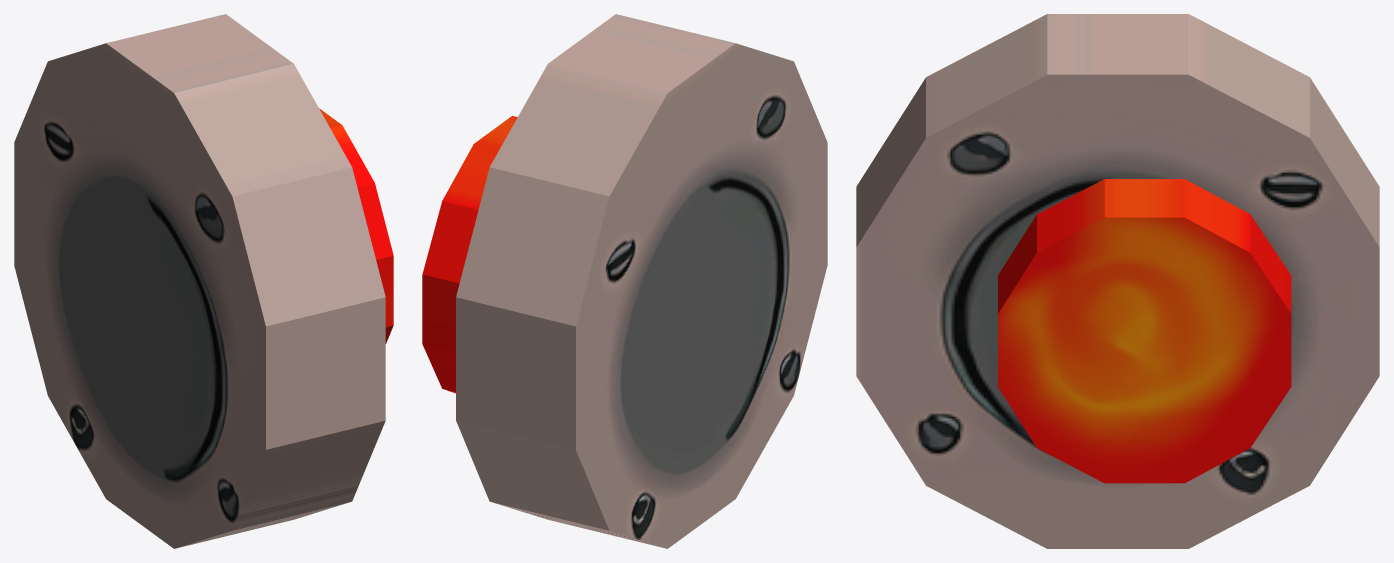
The model's file is Switch.glb.
3 renders of one model, left to right at view 1: azimuth 30°, elevation 25°; view 2: azimuth 150°, elevation 25°; view 3: azimuth 270°, elevation 25°, orthographic. The views are drawn at different scales.
Visible parts, largest first — view 1: Switch; view 2: Switch; view 3: Switch.
Boxes of the visible parts, x1=… form: Switch: x1=14, y1=14, x2=393, y2=548; Switch: x1=422, y1=14, x2=827, y2=548; Switch: x1=856, y1=14, x2=1379, y2=548.
Size of the model in its own units: 6.14 by 13.66 by 13.67.
1 material, 1 textured.
